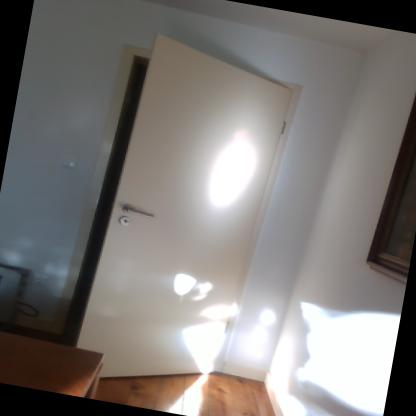semi: (55, 24, 312, 390)
